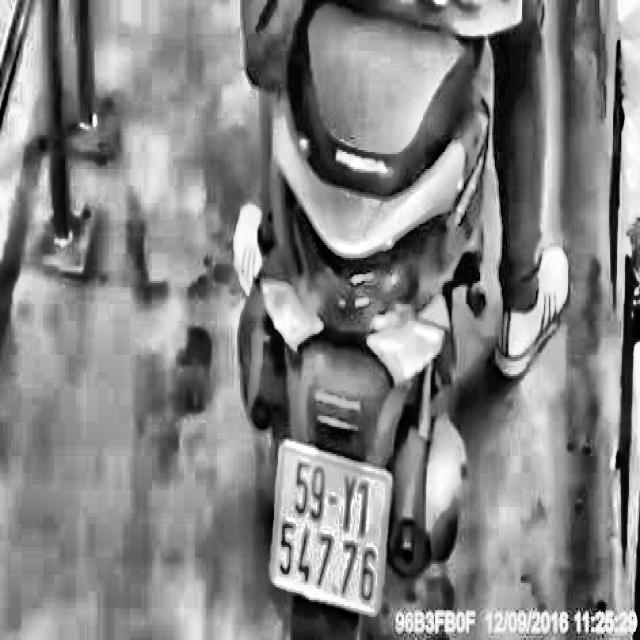plate: (264, 433, 396, 627)
